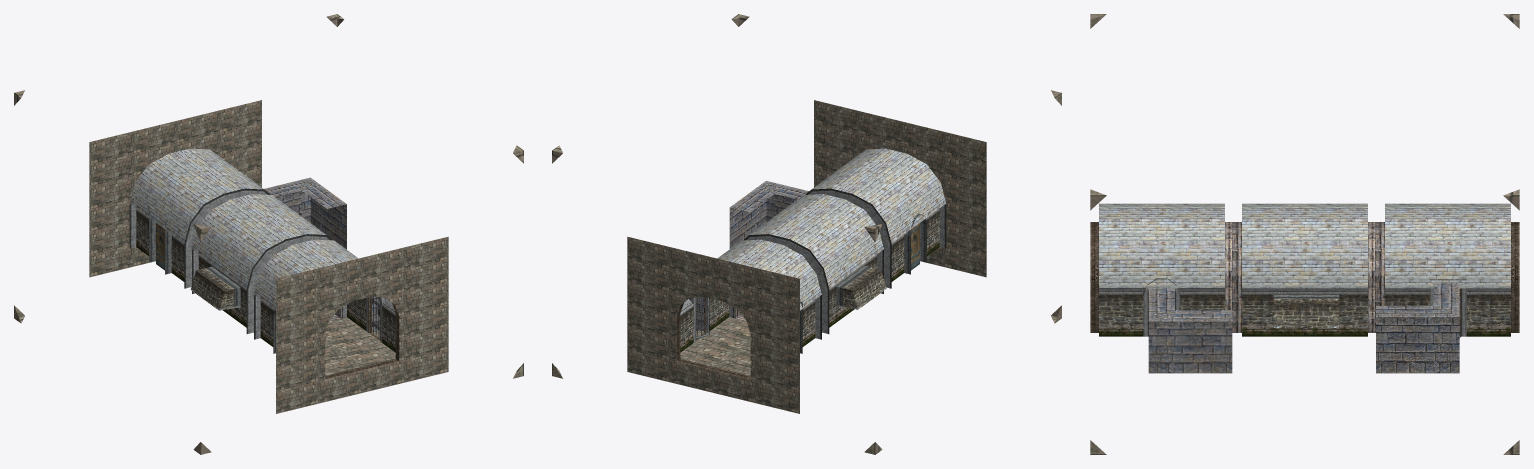
The model's file is lbg_2e.glb.
3 renders of one model, left to right at view 1: azimuth 30°, elevation 25°; view 2: azimuth 150°, elevation 25°; view 3: azimuth 270°, elevation 25°, orthographic. The views are drawn at different scales.
Visible parts, largest first — view 1: lbg_2e; view 2: lbg_2e; view 3: lbg_2e.
Boxes of the visible parts, <box> form: lbg_2e: <box>14,14,523,454</box>; lbg_2e: <box>552,14,1061,454</box>; lbg_2e: <box>1090,14,1519,454</box>.
Bounding box in the file's own units: 15 × 10 × 15.
11 materials, 11 textured.
